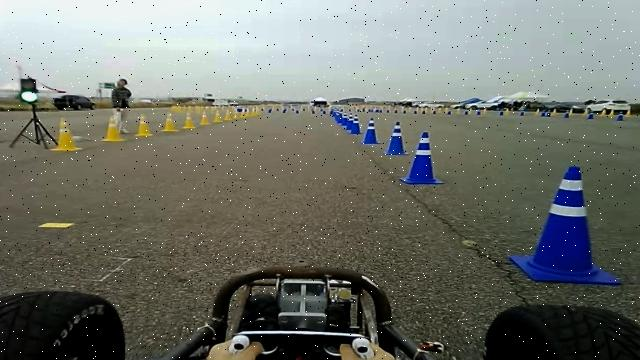blue cone: (508, 165, 622, 285), (399, 131, 445, 185), (384, 120, 409, 154), (361, 117, 382, 144), (349, 115, 362, 134), (586, 112, 594, 120), (617, 112, 624, 121), (563, 111, 570, 118)
yellow cone: (50, 117, 83, 152), (102, 115, 125, 142), (52, 130, 79, 150), (135, 113, 154, 136), (161, 112, 179, 132), (182, 107, 196, 129), (200, 110, 211, 125), (213, 110, 223, 123), (224, 109, 232, 121), (252, 106, 261, 116), (625, 106, 632, 117), (551, 108, 558, 116)
